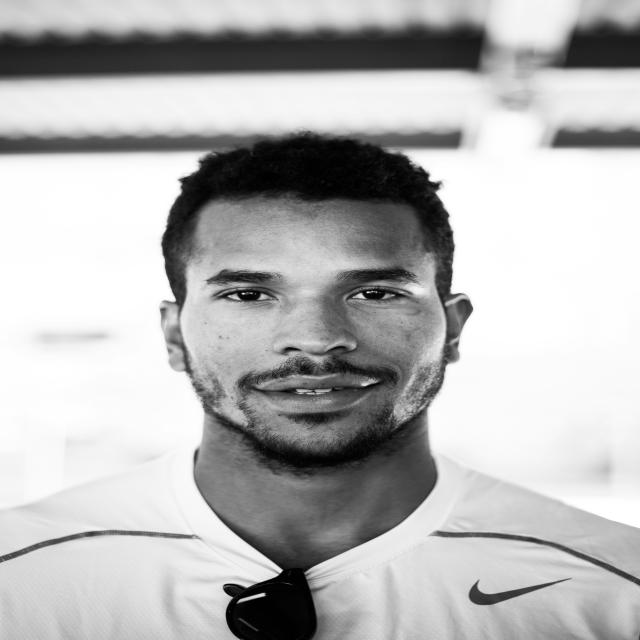human: (11, 120, 640, 640)
